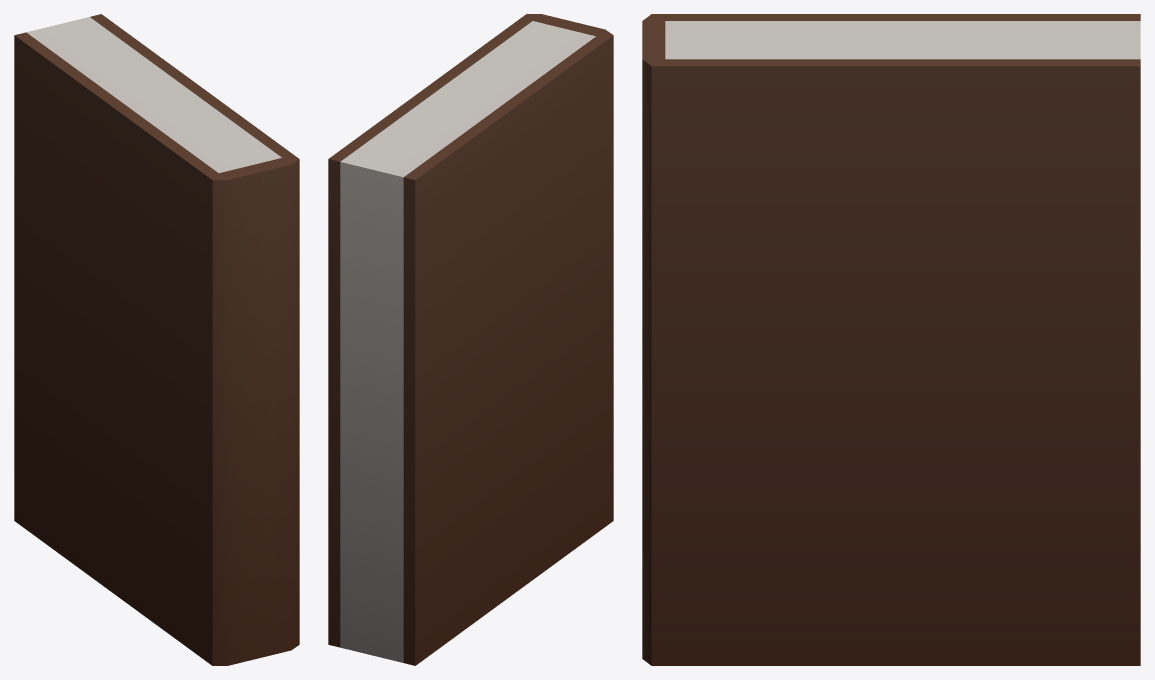
Rendered from Book_C.fbx.
The picture shows the model from 3 angles, left to right: view 1: azimuth 30°, elevation 25°; view 2: azimuth 150°, elevation 25°; view 3: azimuth 270°, elevation 25°; orthographic projection. The views are drawn at different scales.
Visible parts, largest first — view 1: Book_C; view 2: Book_C; view 3: Book_C.
Part boxes in pixels (x1,y1,x2,y2): Book_C: [14, 14, 299, 665]; Book_C: [328, 14, 613, 665]; Book_C: [642, 14, 1140, 665].
Bounding box in the file's own units: 5.32 × 28.39 × 21.38.
